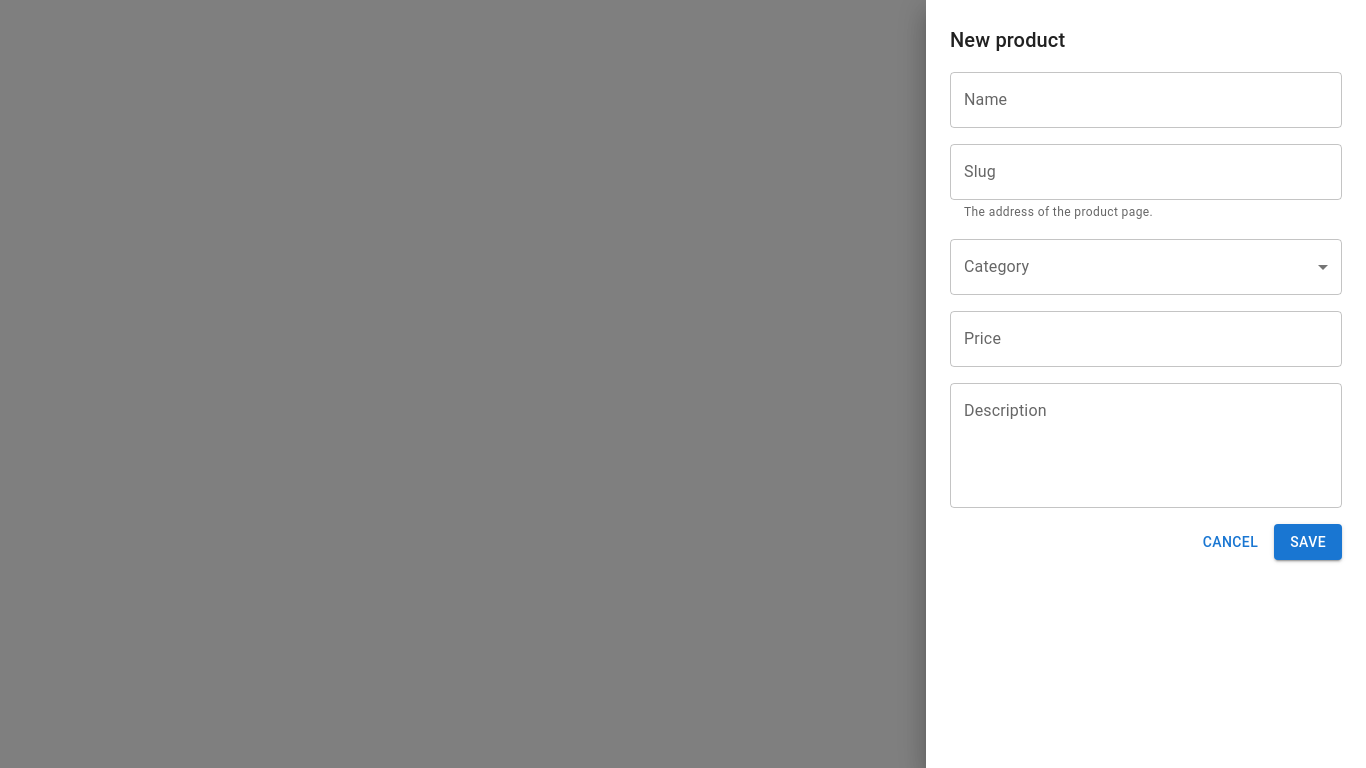
Test case: ProductEditor › shows server validation messages under their fields and keeps the panel open
The width and height of the screenshot is (1366, 768).
Type "Blue pen" into the field labelled "Name".
click(1146, 100); type("Blue pen")  # box [950,72,1342,128]
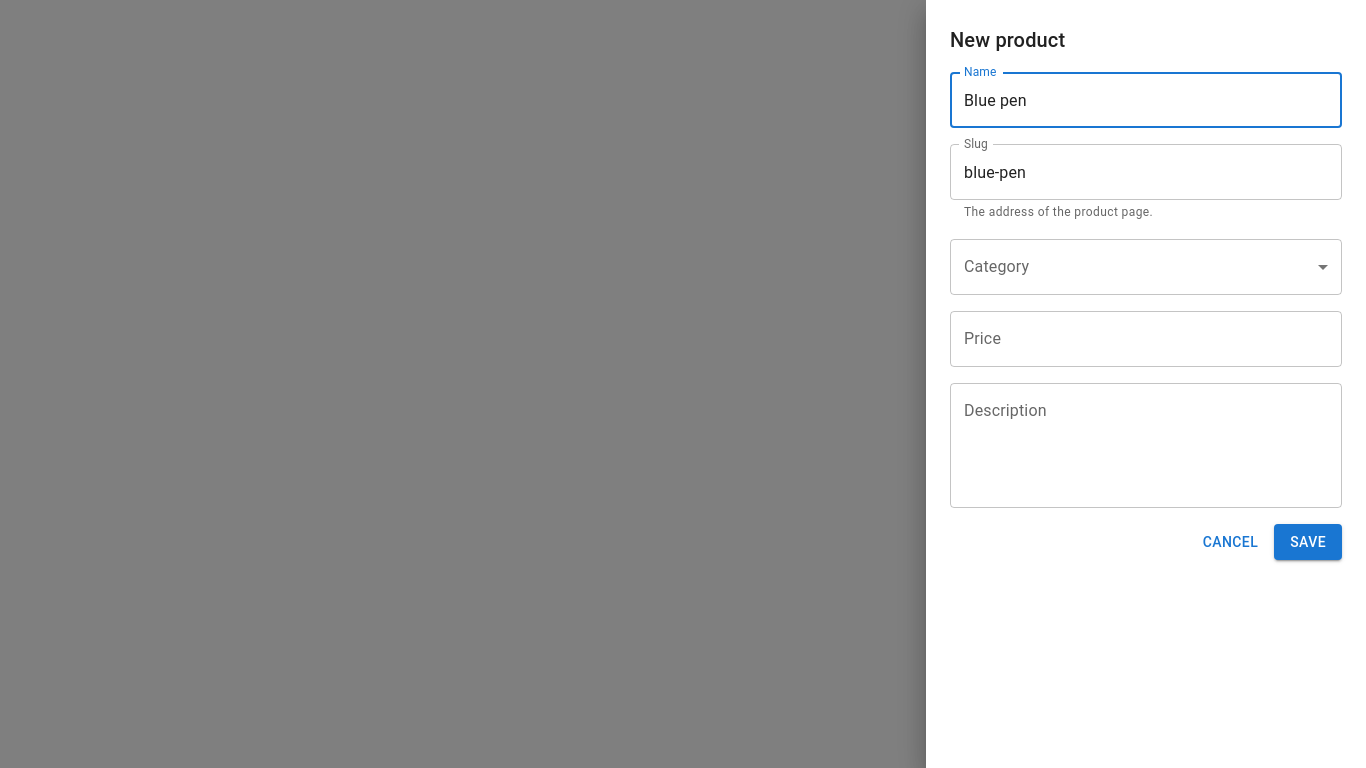
Click the button "Save".
click(1308, 542)  # box [1274,524,1342,560]
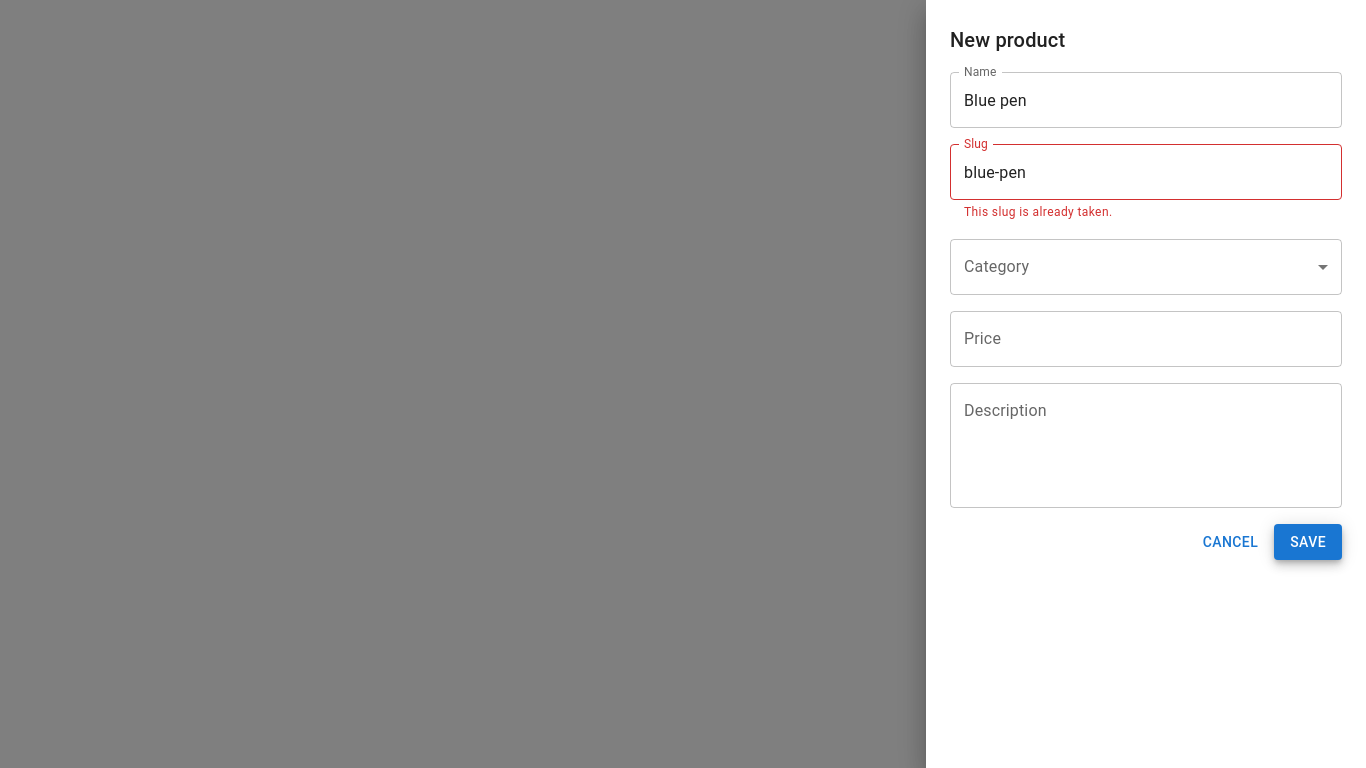
Now the text "This slug is already taken." is shown, box [964,205,1112,219]
